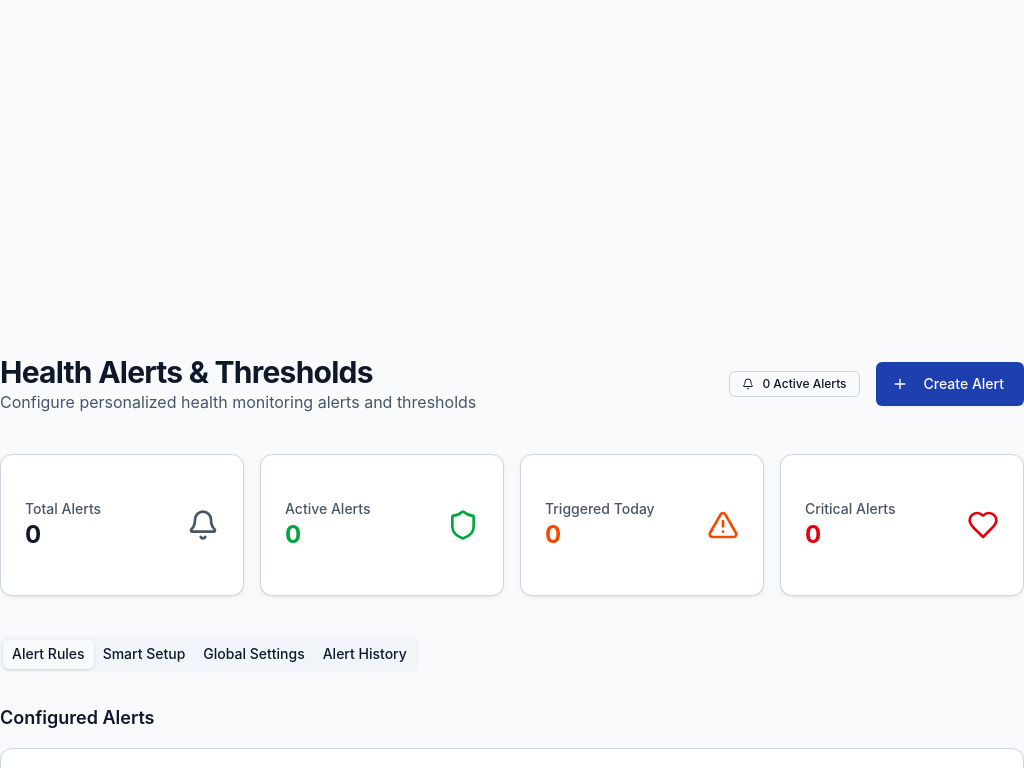
HealthAlertsConfig › toggles new alert form when Create Alert is clicked
(page scrolled)
Click the button "Create Alert" at (950, 384), box left=876, top=362, right=1023, bottom=406
(page scrolled)
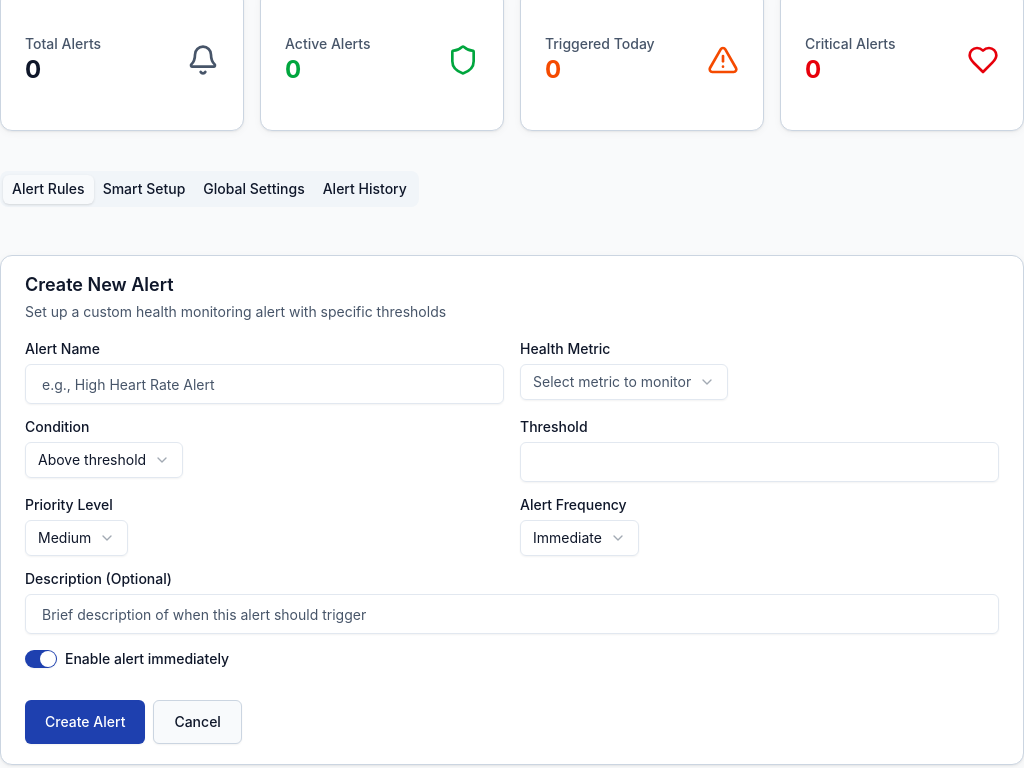
Expected: the field labelled "Alert Name" is shown, left=25, top=364, right=504, bottom=404
